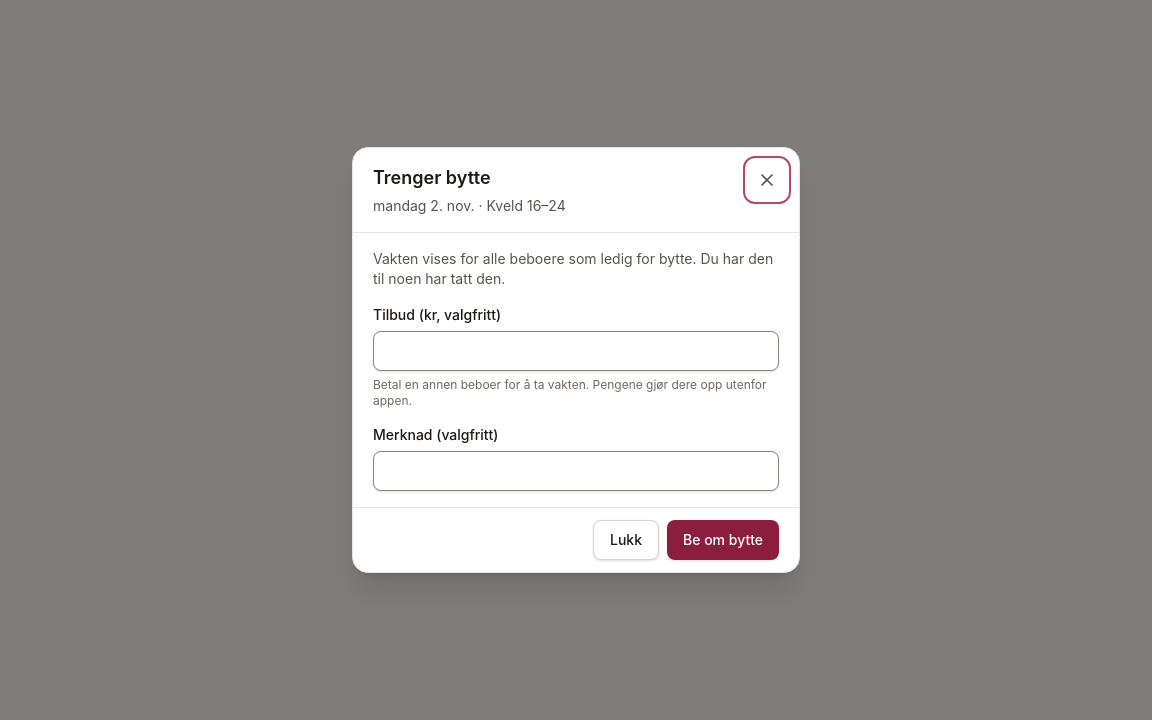
Test: SwapRequestModal › rejects a negative offer
Type "-5" into the number field labelled "Tilbud (kr, valgfritt)".
click(576, 351); type("-5")  # box [373,331,779,371]
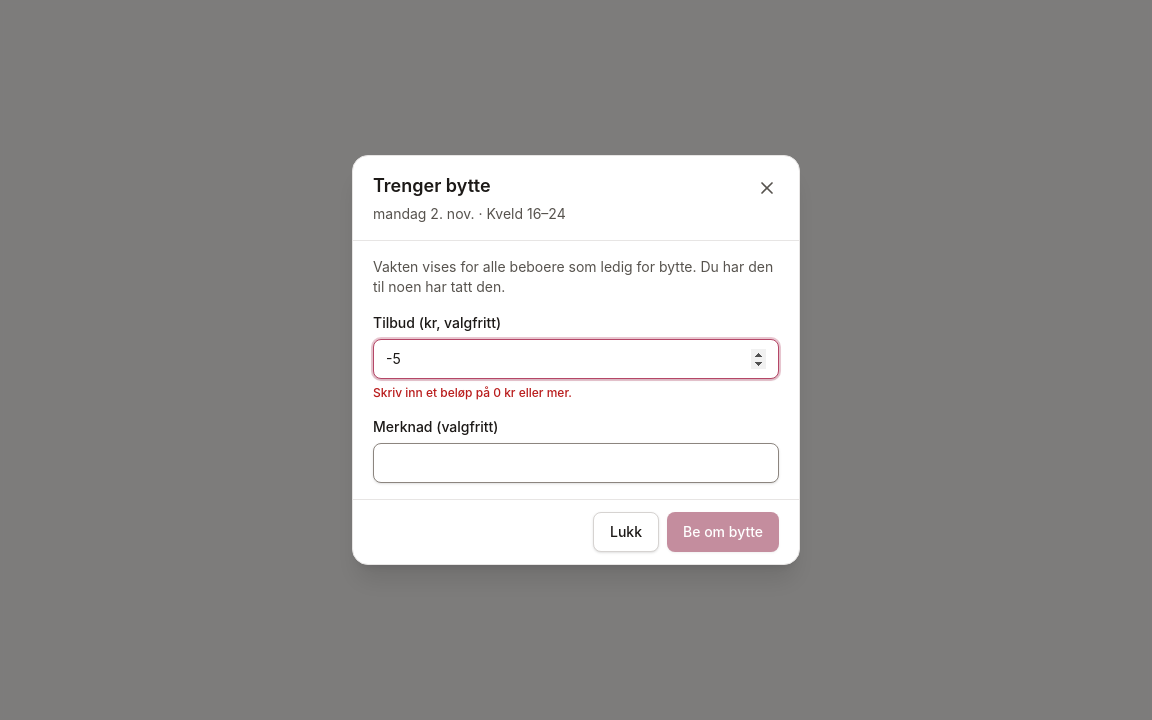
expect the text "Skriv inn et beløp på 0 kr eller mer." is shown: met, box [373,385,572,400]
expect the button "Be om bytte" is disabled: met, box [667,512,779,552]
